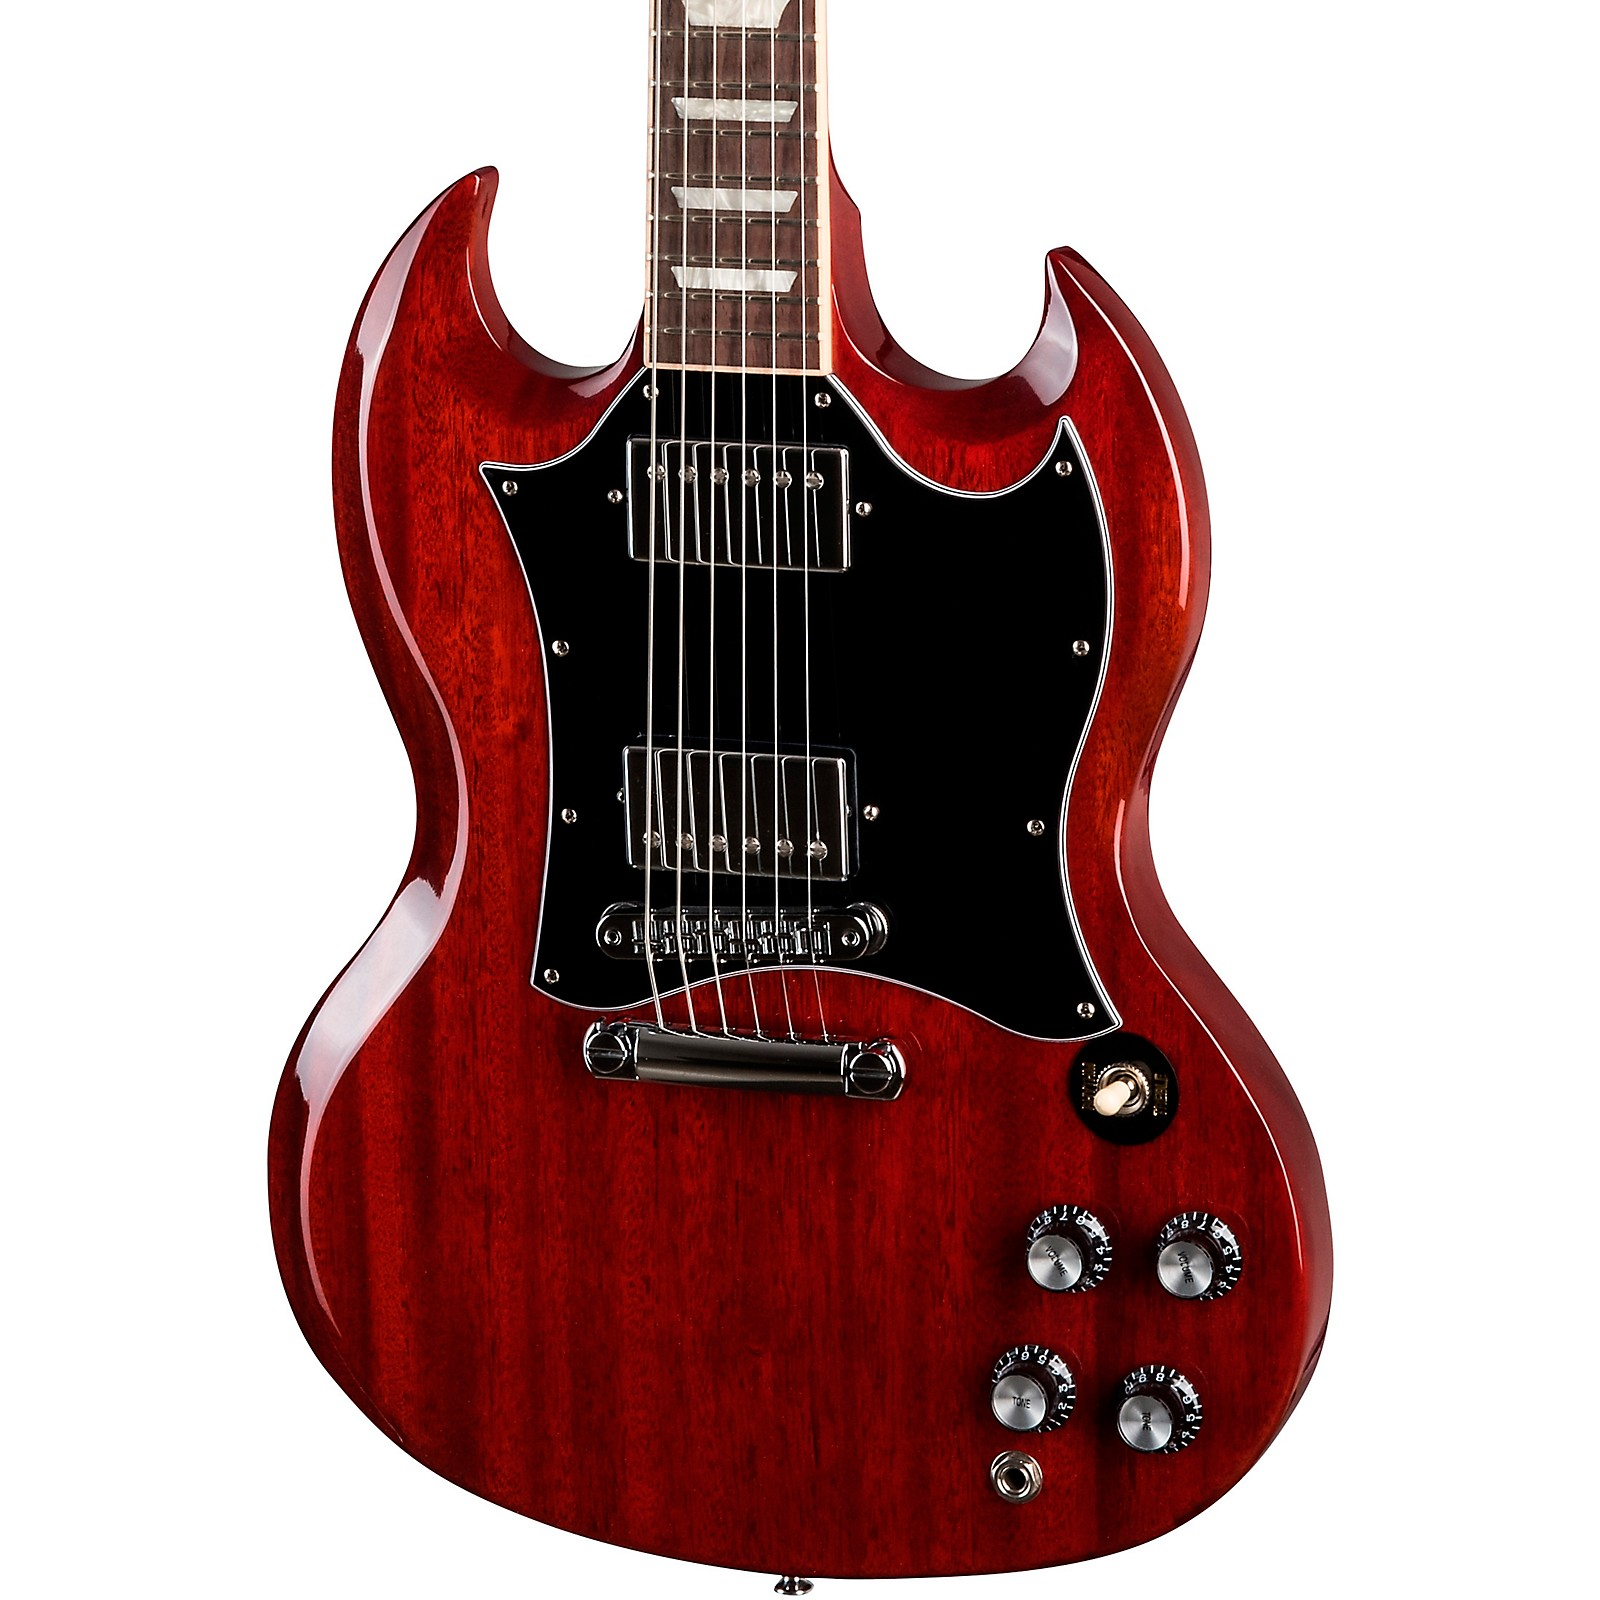guitar: (267, 113, 1522, 1590)
